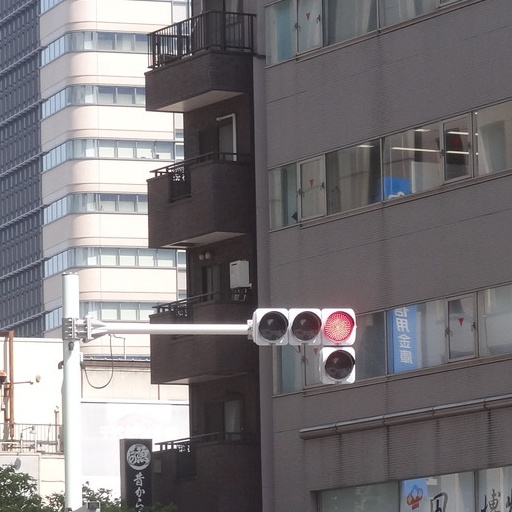Traffic_Signal_Red: (250, 296, 359, 345)
